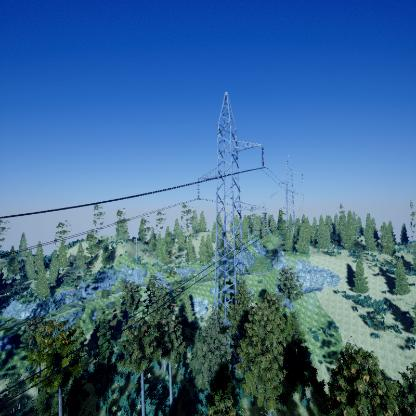tower: (193, 88, 270, 324), (271, 154, 307, 219)
